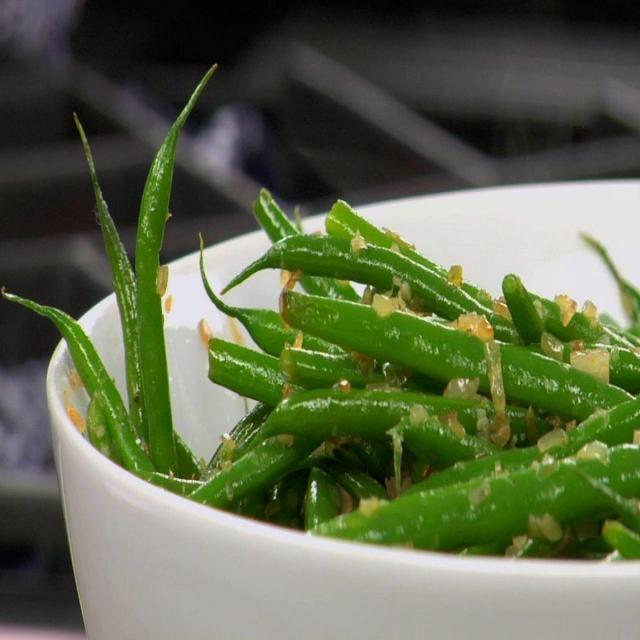Beans: (56, 136, 639, 562)
